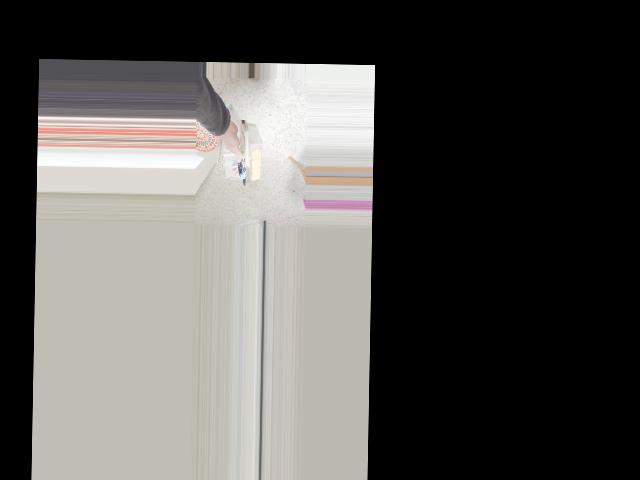cheese: (201, 115, 267, 185)
